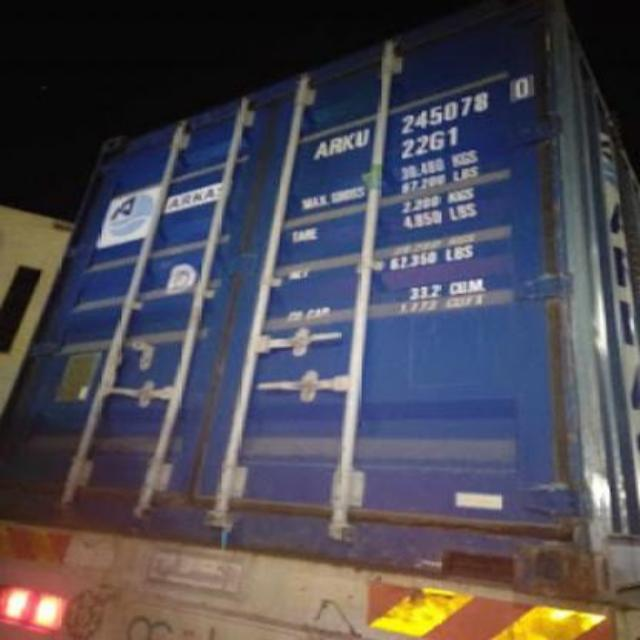0: (442, 100, 458, 122), (514, 78, 530, 98)
2: (400, 114, 416, 136)
4: (416, 110, 429, 130)
5: (430, 104, 442, 126)
7: (461, 95, 474, 118)
8: (474, 91, 490, 112)
A: (314, 139, 328, 159)
K: (342, 132, 356, 152)
R: (328, 134, 342, 156)
U: (356, 128, 372, 148)
